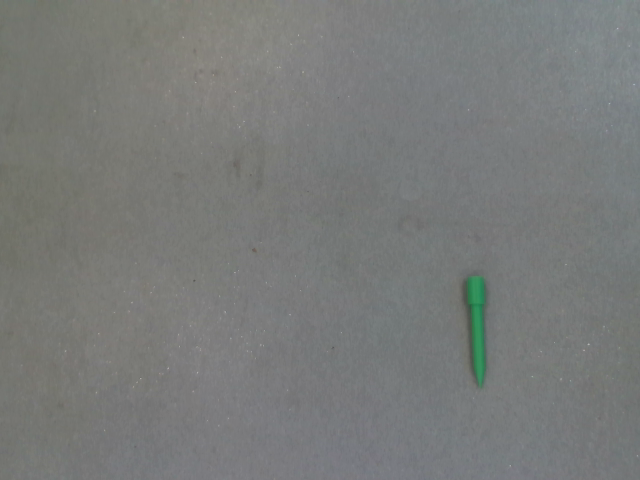Probe: (462, 268, 495, 399)
